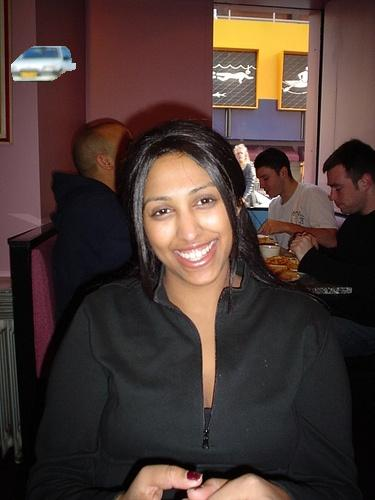tampered: (12, 47, 76, 82)
